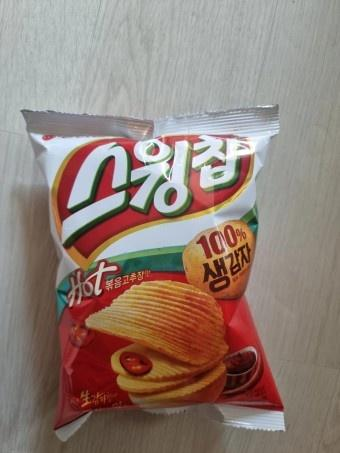snack: (19, 101, 288, 443)
